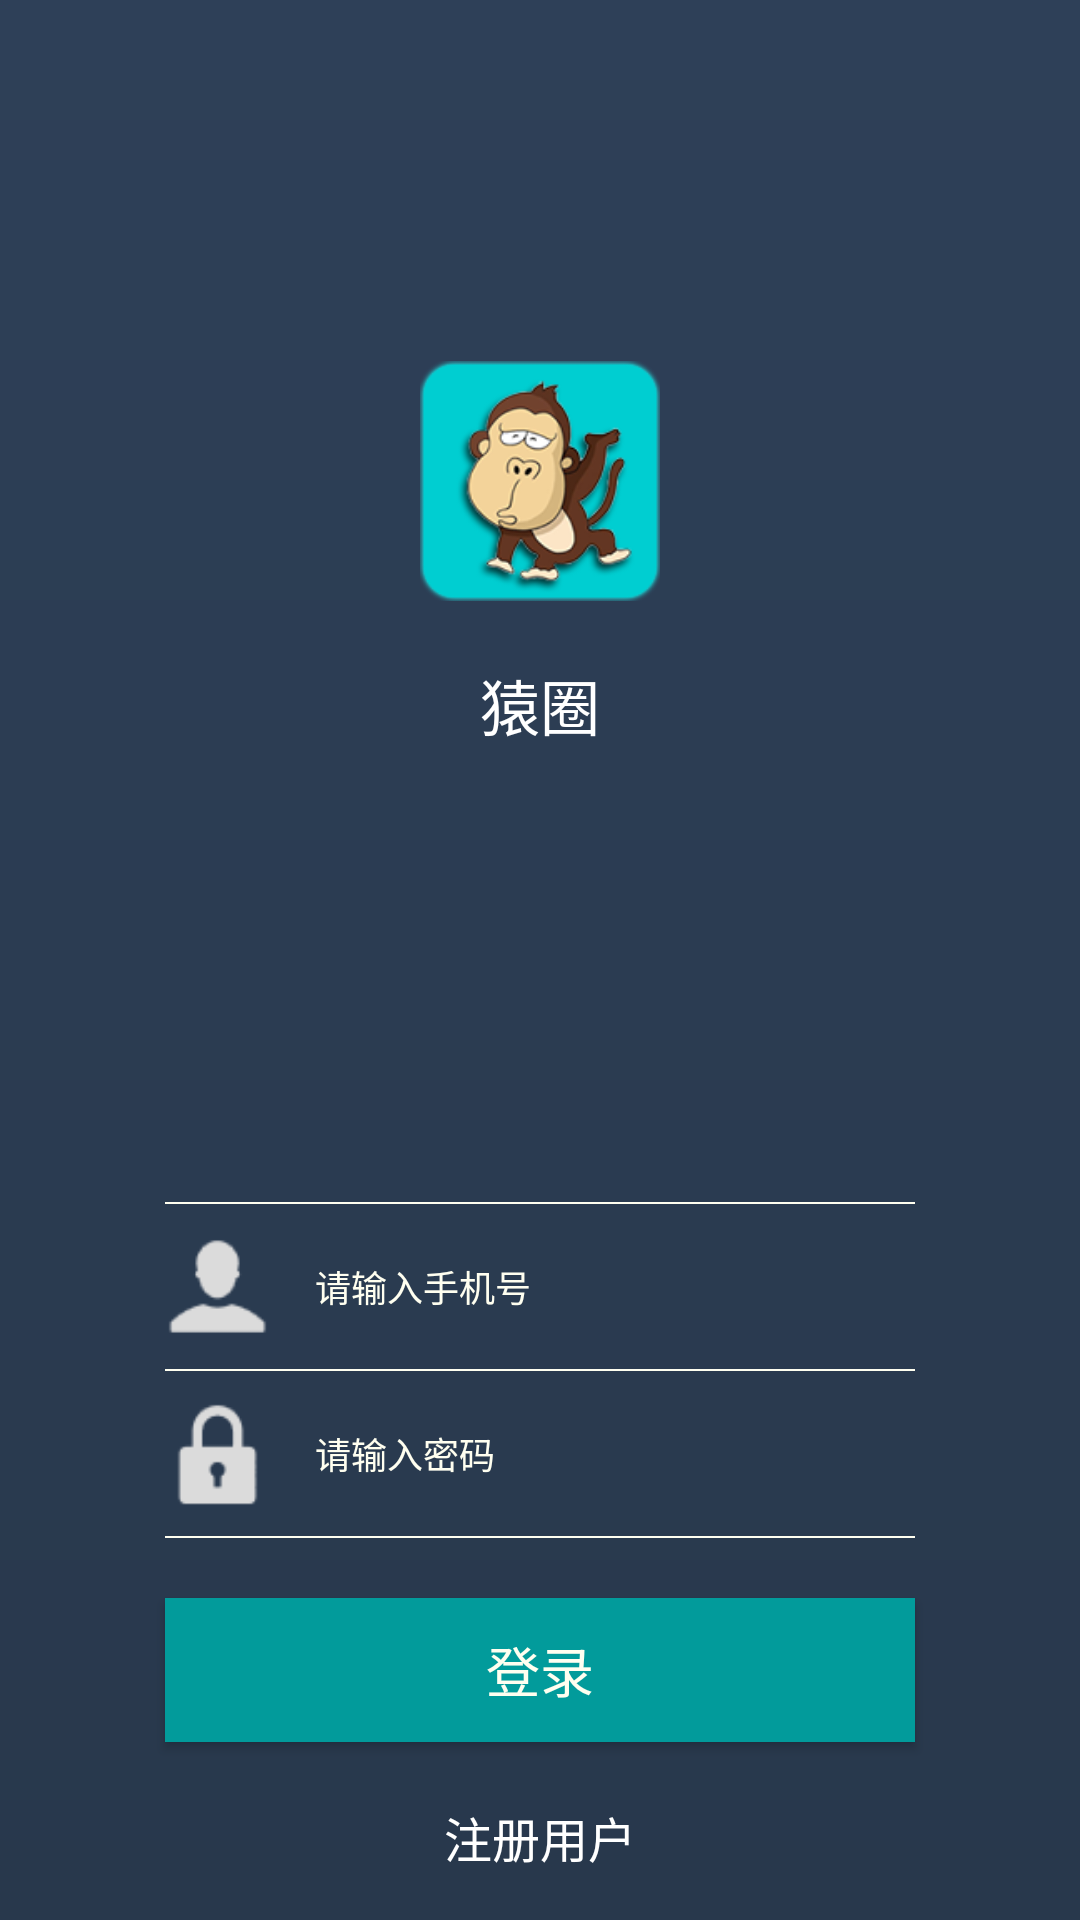

Where to tap for icons on this 1080 x 1920 app screen, as (x=x, y=y):
lock: (x=217, y=1455)
person: (x=217, y=1286)
